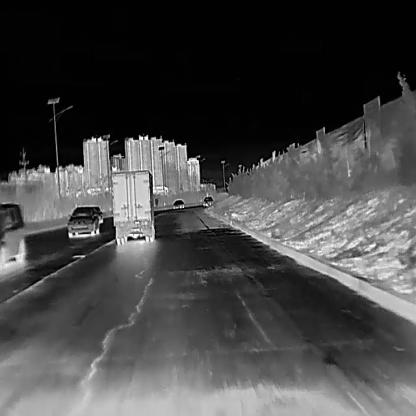car: (0, 201, 25, 264), (66, 204, 98, 237), (202, 195, 213, 206), (172, 198, 183, 208)
truck: (110, 170, 157, 244)
